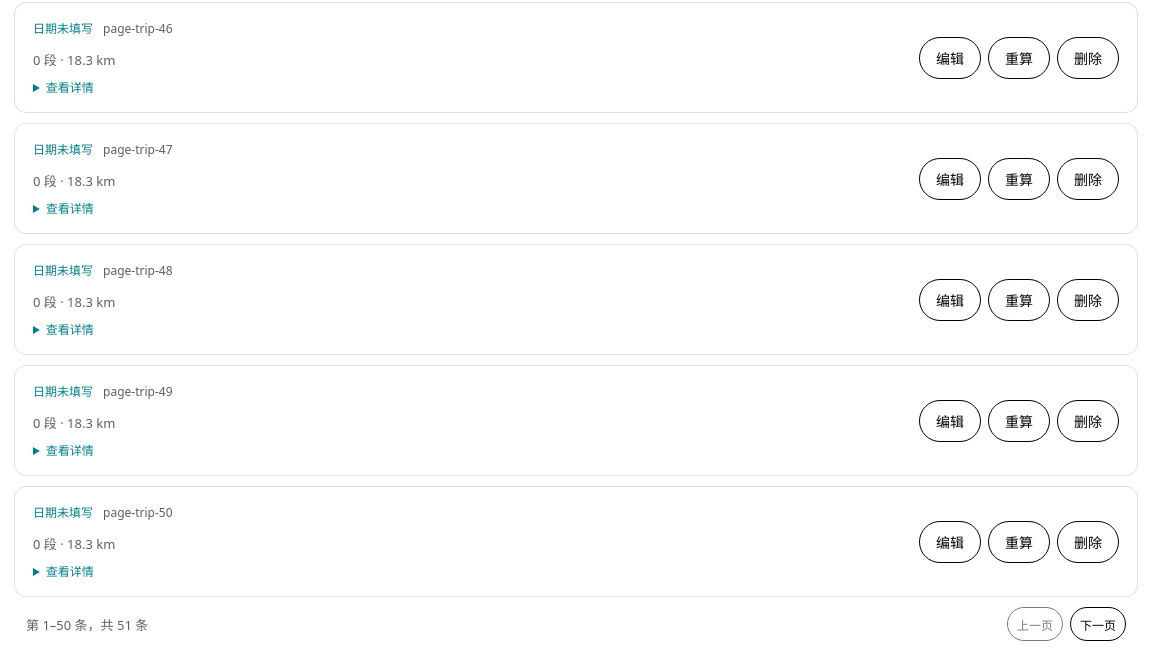
it: Transit2GPX app shell › loads journey pages from the API
The image size is (1152, 665).
(page scrolled)
Check: the text "第 1–50 条，共 51 条" is shown, box [26,614,148,634]
Click the button "下一页": x=1098, y=624 [1070,607,1126,641]
(page scrolled)
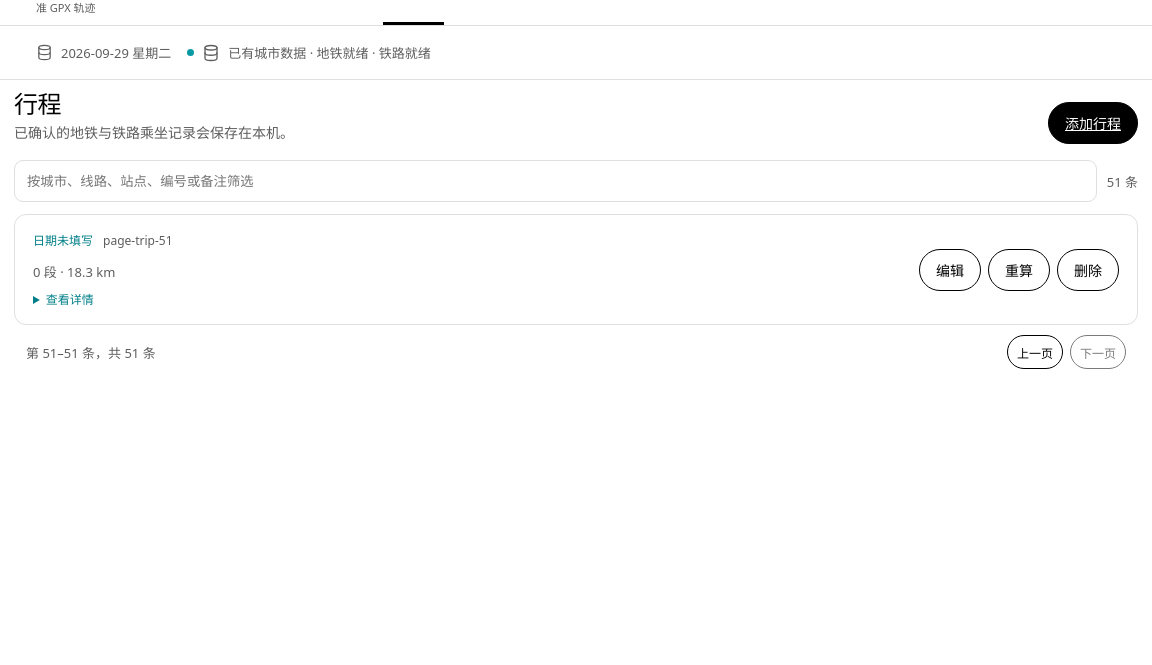
Check: the text "page-trip-51" is shown, box [103,232,172,248]
Check: the text "第 51–51 条，共 51 条" is shown, box [26,342,156,362]
Check: the button "下一页" is disabled, box [1070,335,1126,369]
